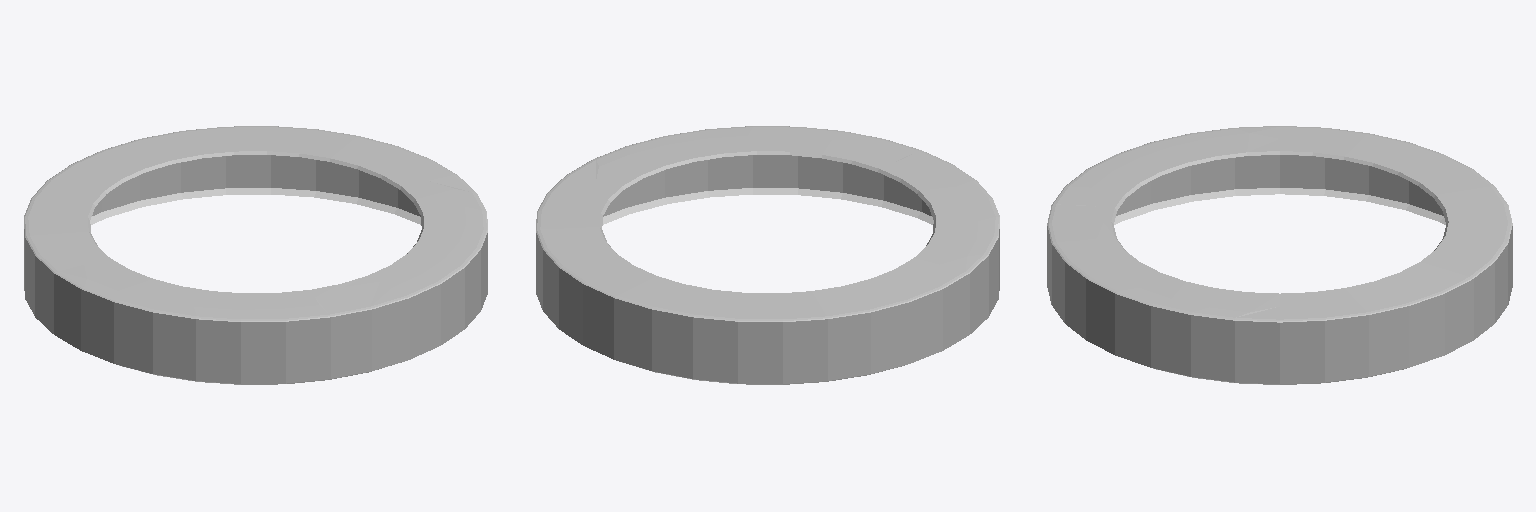
The model's file is roomba_ring.obj.
The picture shows the model from 3 angles: view 1: azimuth 30°, elevation 25°; view 2: azimuth 150°, elevation 25°; view 3: azimuth 270°, elevation 25°; orthographic projection.
Visible parts, largest first — view 1: Cylinder.002_Cylinder.003; view 2: Cylinder.002_Cylinder.003; view 3: Cylinder.002_Cylinder.003.
Part boxes in pixels (left/top/right/bottom): Cylinder.002_Cylinder.003: left=24, top=126, right=487, bottom=384; Cylinder.002_Cylinder.003: left=536, top=126, right=999, bottom=384; Cylinder.002_Cylinder.003: left=1047, top=126, right=1512, bottom=384.
Size of the model in its own units: 2 by 0.3198 by 2.